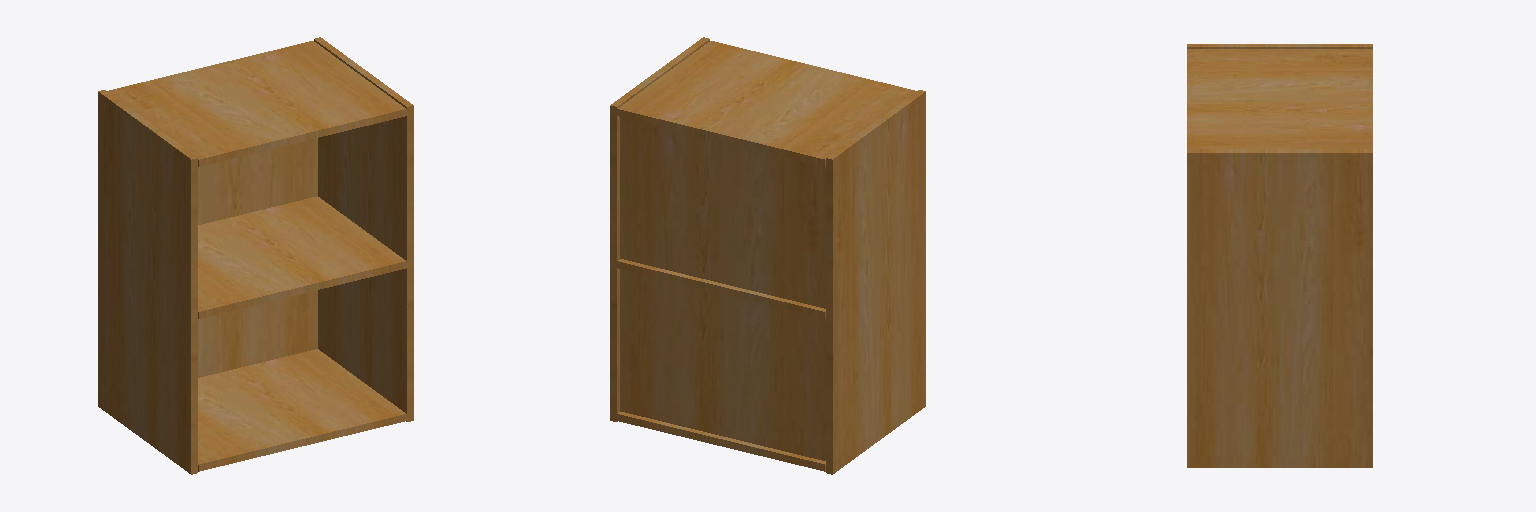
The picture shows the model from 3 angles: view 1: azimuth 30°, elevation 25°; view 2: azimuth 150°, elevation 25°; view 3: azimuth 270°, elevation 25°; orthographic projection.
Parts seen in each view (by area): view 1: Cube_16_4, Cube_16_1_5, Cube_15_1, Cube_15_1_2, Cube_15_2_3, Cube_17_6; view 2: Cube_17_6, Cube_16_4, Cube_15_1, Cube_16_1_5, Cube_15_1_2, Cube_15_2_3; view 3: Cube_16_1_5, Cube_15_1, Cube_16_4.
Part boxes in pixels (x1,y1,x2,y2): Cube_16_4: (98, 90, 197, 474); Cube_16_1_5: (314, 37, 413, 421); Cube_15_1: (108, 41, 406, 166); Cube_15_1_2: (198, 196, 406, 318); Cube_15_2_3: (198, 349, 406, 471); Cube_17_6: (198, 138, 317, 377); Cube_17_6: (620, 117, 825, 460); Cube_16_4: (826, 90, 925, 474); Cube_15_1: (617, 41, 915, 166); Cube_16_1_5: (610, 37, 709, 421); Cube_15_1_2: (617, 259, 825, 318); Cube_15_2_3: (617, 412, 825, 471); Cube_16_1_5: (1187, 149, 1372, 467); Cube_15_1: (1187, 49, 1372, 148); Cube_16_4: (1187, 44, 1372, 48).
Size of the model in its own units: 39.87 by 54 by 29.
1 materials, 1 textured.